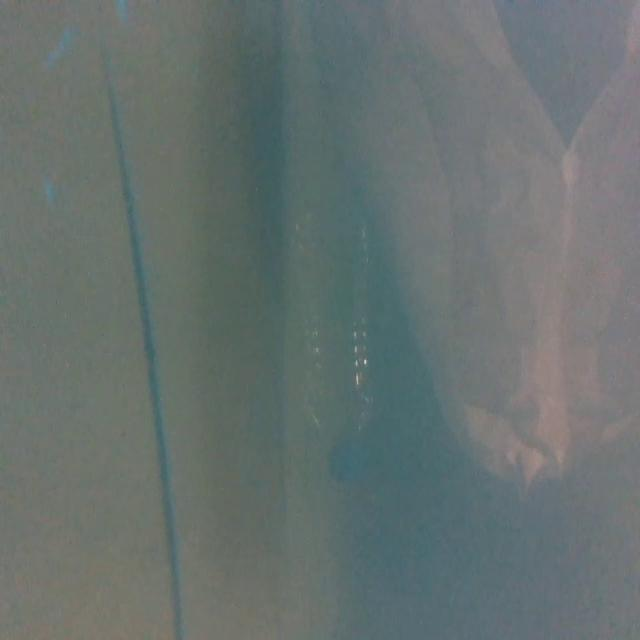plastic bags: (357, 5, 640, 491)
plastic bottle: (282, 199, 382, 488)
